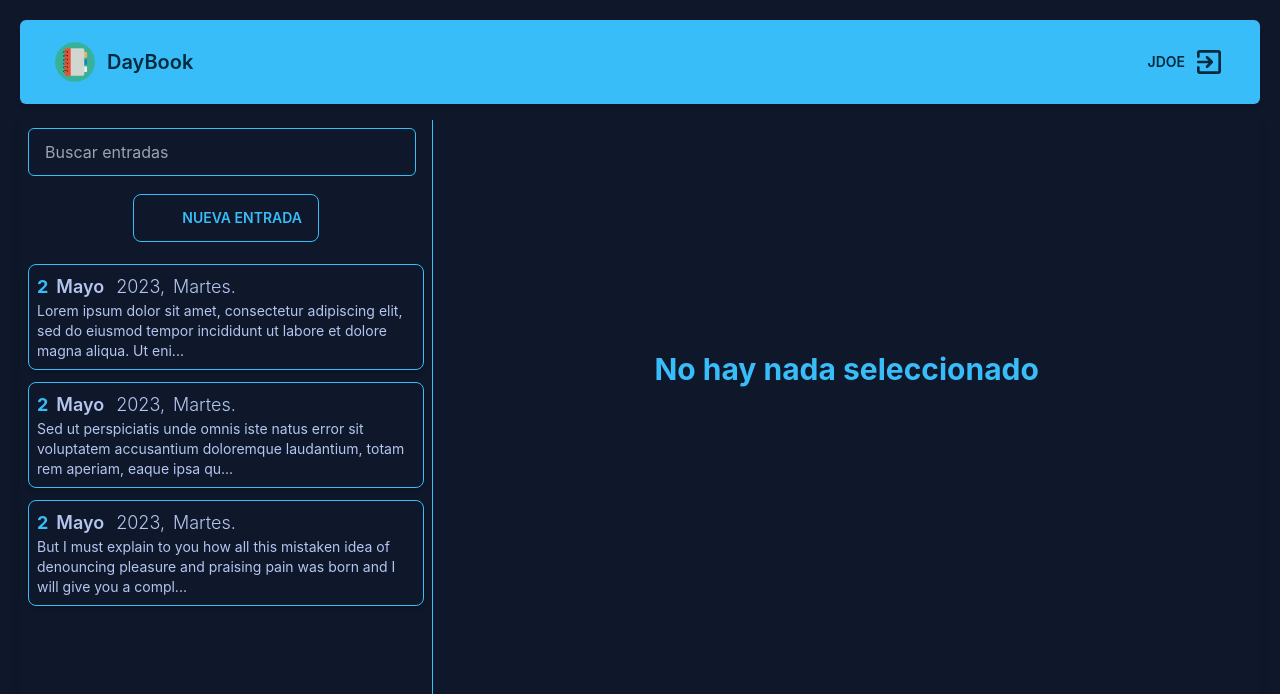
Test: DayBook Crud › Filtra las entradas las entradas
Expected: the 1st element with test id "entrylist-item" is shown, [28,264,424,370]
Type "text" into the field with test id "entrylist-input" at (222, 152), box [28,128,416,176]
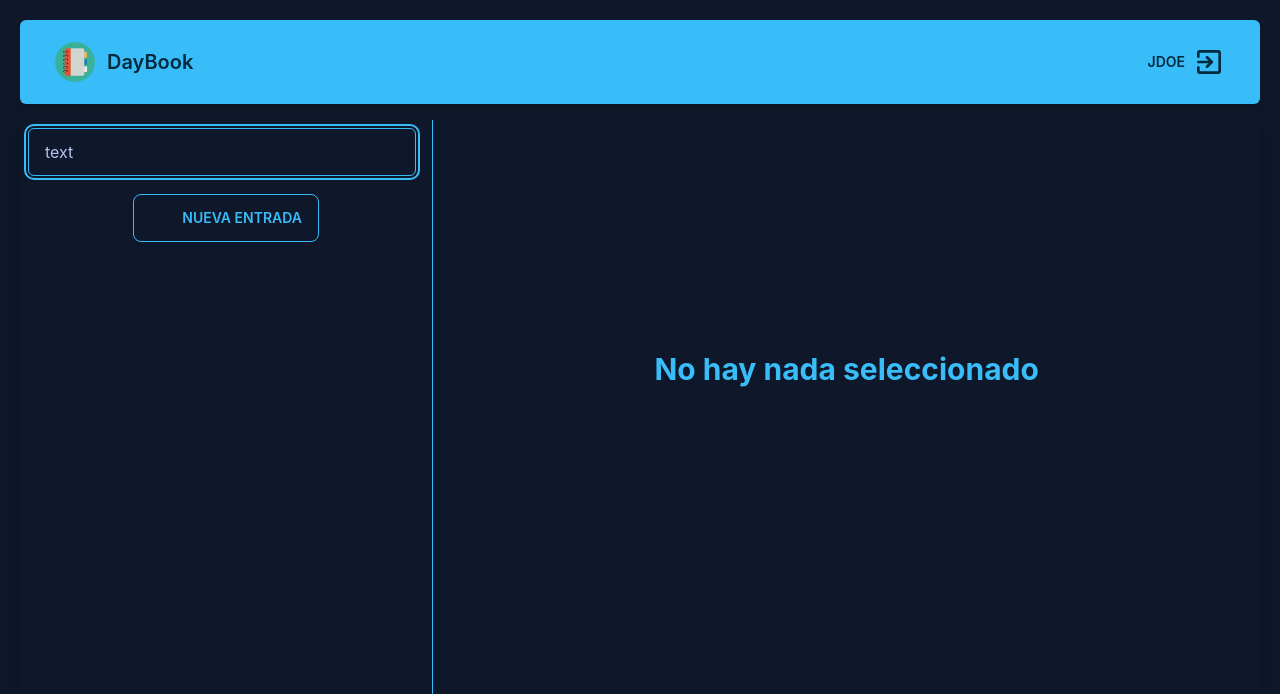
Expected: the element with test id "entrylist-item" is gone
Replace the text in the field with test id "entrylist-input" with "lorem" at (222, 152), box [28,128,416,176]
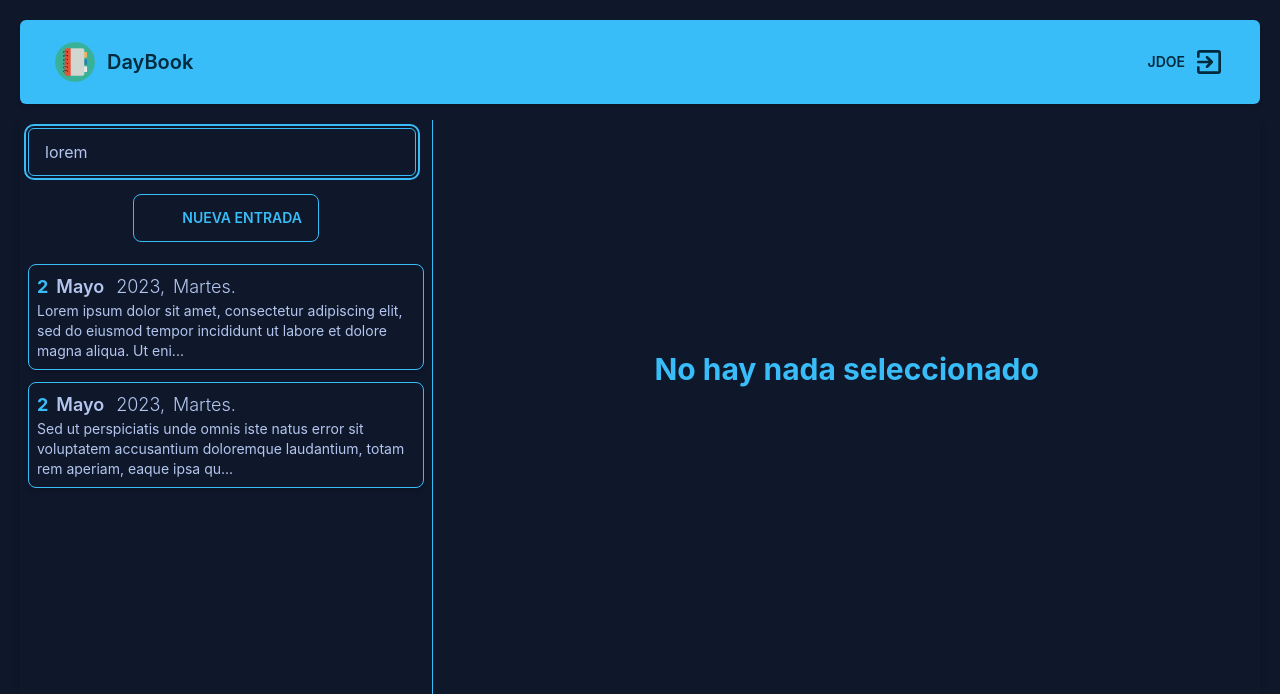
Expected: the 1st element with test id "entrylist-item" is shown, [28,264,424,370]
